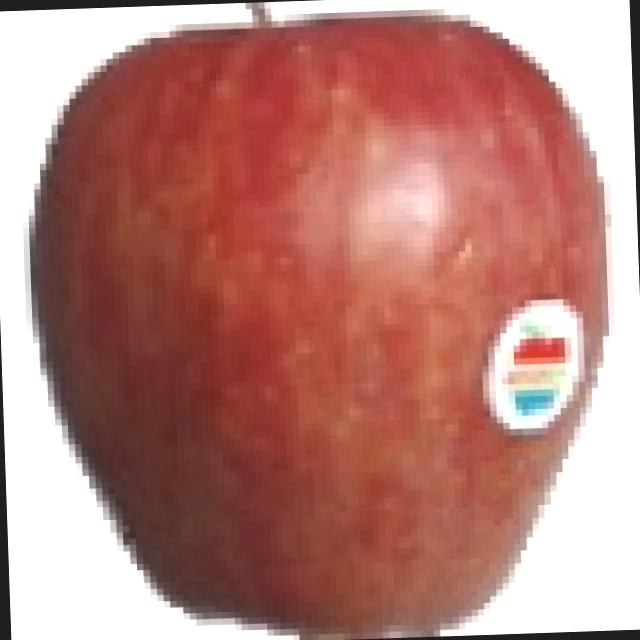apple: (22, 7, 625, 640)
